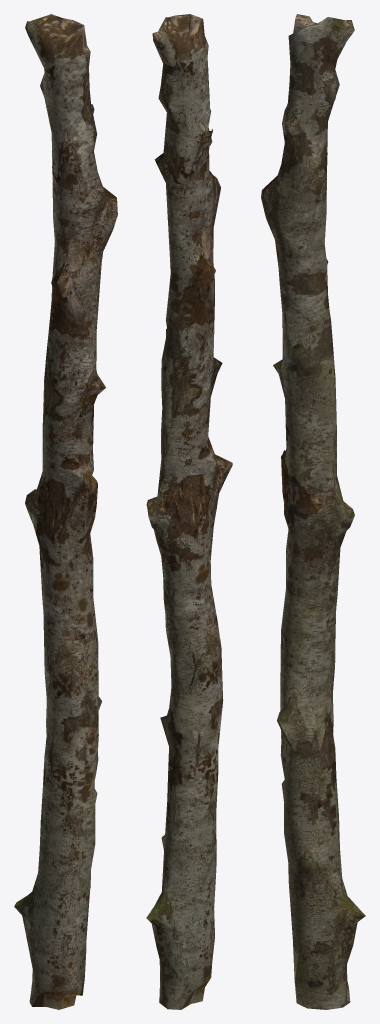
File: HORSE_P_WoodenStand02.fbx
The picture shows the model from 3 angles, left to right: view 1: azimuth 90°, elevation 25°; view 2: azimuth 150°, elevation 25°; view 3: azimuth 270°, elevation 25°; orthographic projection.
Parts seen in each view (by area): view 1: HORSE_P_WoodenStand02; view 2: HORSE_P_WoodenStand02; view 3: HORSE_P_WoodenStand02.
Boxes of the visible parts, bbox=[...] form: HORSE_P_WoodenStand02: bbox=[14, 14, 117, 1009]; HORSE_P_WoodenStand02: bbox=[146, 14, 232, 1009]; HORSE_P_WoodenStand02: bbox=[261, 14, 365, 1009].
Size of the model in its own units: 100 by 1462 by 140.
